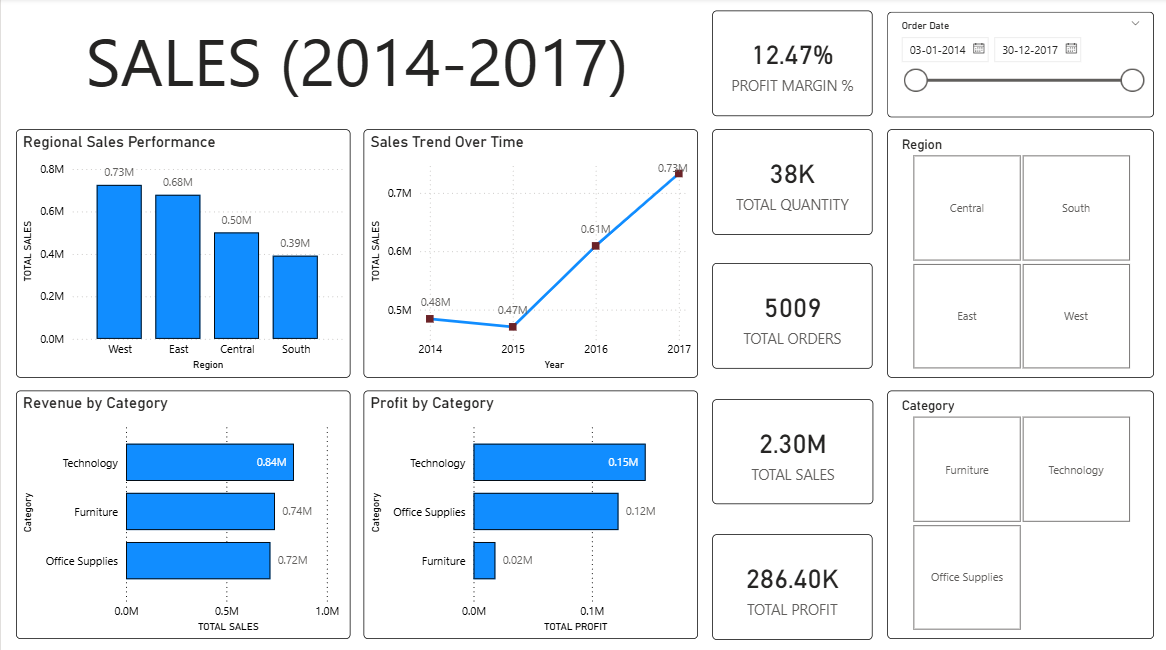

Layout of this report page (visuals, bound fields, positions):
{"tool":"powerbi","page":{"name":"Executive Overview","canvas":[1280,720],"ordinal":0},"visuals":[{"type":"clusteredColumnChart","title":"Regional Sales Performance","fields":{"Category":["OrignalDataSet - Superstore.Region"],"Y":["OrignalDataSet - Superstore.TOTAL SALES"]},"box":[17.1,144.3,367.1,272.9],"z":0},{"type":"lineChart","title":"Sales Trend Over Time","fields":{"Category":["OrignalDataSet - Superstore.Order Date.Variation.Date Hierarchy.Year","OrignalDataSet - Superstore.Order Date.Variation.Date Hierarchy.Quarter","OrignalDataSet - Superstore.Order Date.Variation.Date Hierarchy.Month","OrignalDataSet - Superstore.Order Date.Variation.Date Hierarchy.Day"],"Y":["OrignalDataSet - Superstore.TOTAL SALES"]},"box":[398.6,144.3,367.1,272.9],"z":1000},{"type":"card","fields":{"Values":["OrignalDataSet - Superstore.TOTAL SALES"]},"box":[780.8,440.5,177,115.3],"z":2000},{"type":"card","fields":{"Values":["OrignalDataSet - Superstore.TOTAL PROFIT"]},"box":[781.4,588.6,175.7,115.7],"z":3000},{"type":"card","fields":{"Values":["OrignalDataSet - Superstore.TOTAL ORDERS"]},"box":[781.4,291.4,175.7,115.7],"z":4000},{"type":"card","fields":{"Values":["OrignalDataSet - Superstore.TOTAL QUANTITY"]},"box":[781.4,144.3,175.7,115.7],"z":5000},{"type":"card","fields":{"Values":["OrignalDataSet - Superstore.PROFIT MARGIN %"]},"box":[781.4,14.3,175.7,115.7],"z":6000},{"type":"clusteredBarChart","title":"Revenue by Category","fields":{"Y":["OrignalDataSet - Superstore.TOTAL SALES"],"Category":["OrignalDataSet - Superstore.Category"]},"box":[17.1,431.4,367.1,272.9],"z":7000},{"type":"clusteredBarChart","title":"Profit by Category","fields":{"Category":["OrignalDataSet - Superstore.Category"],"Y":["OrignalDataSet - Superstore.TOTAL PROFIT"]},"box":[398.6,431.4,367.1,272.9],"z":8000},{"type":"slicer","fields":{"Values":["OrignalDataSet - Superstore.Region"]},"box":[972.9,144.3,292.9,272.9],"z":9000},{"type":"slicer","fields":{"Values":["OrignalDataSet - Superstore.Category"]},"box":[972.9,431.4,292.9,272.9],"z":10000},{"type":"slicer","fields":{"Values":["OrignalDataSet - Superstore.Order Date"]},"box":[972.9,15.7,292.9,115.7],"z":11000},{"type":"textbox","box":[17.1,14.3,748.6,115.7],"z":12000}]}

Visuals, with their boxes in screenshot pixels (x1, y1, x2, y2), scaled from the page's 1280x720 canvas onto the 1166x650 screenshot:
"Regional Sales Performance" clusteredColumnChart: select_region(16, 130, 350, 377)
"Sales Trend Over Time" lineChart: select_region(363, 130, 698, 377)
card - OrignalDataSet - Superstore.TOTAL SALES: select_region(711, 398, 872, 502)
card - OrignalDataSet - Superstore.TOTAL PROFIT: select_region(712, 531, 872, 636)
card - OrignalDataSet - Superstore.TOTAL ORDERS: select_region(712, 263, 872, 368)
card - OrignalDataSet - Superstore.TOTAL QUANTITY: select_region(712, 130, 872, 235)
card - OrignalDataSet - Superstore.PROFIT MARGIN %: select_region(712, 13, 872, 117)
"Revenue by Category" clusteredBarChart: select_region(16, 389, 350, 636)
"Profit by Category" clusteredBarChart: select_region(363, 389, 698, 636)
slicer - OrignalDataSet - Superstore.Region: select_region(886, 130, 1153, 377)
slicer - OrignalDataSet - Superstore.Category: select_region(886, 389, 1153, 636)
slicer - OrignalDataSet - Superstore.Order Date: select_region(886, 14, 1153, 119)
textbox: select_region(16, 13, 698, 117)
